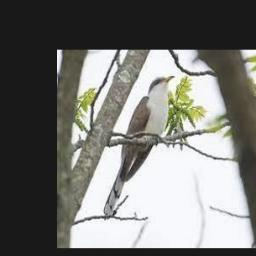Cuckoo: (104, 75, 176, 216)
